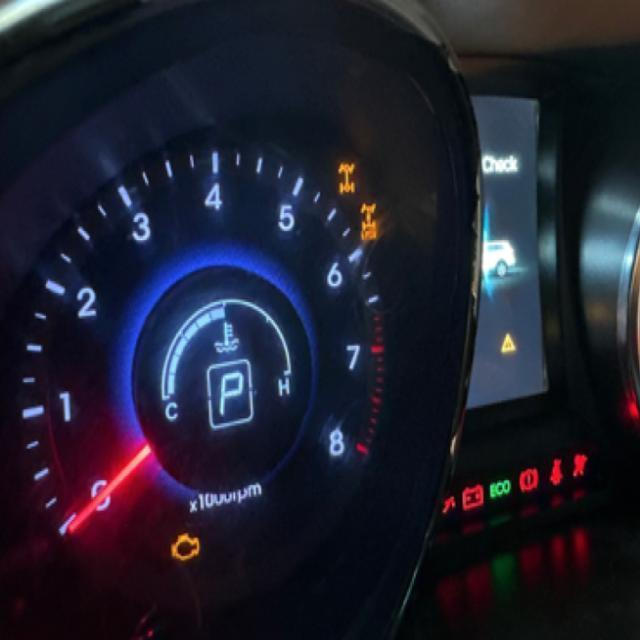Seat Belt: (548, 456, 565, 488)
